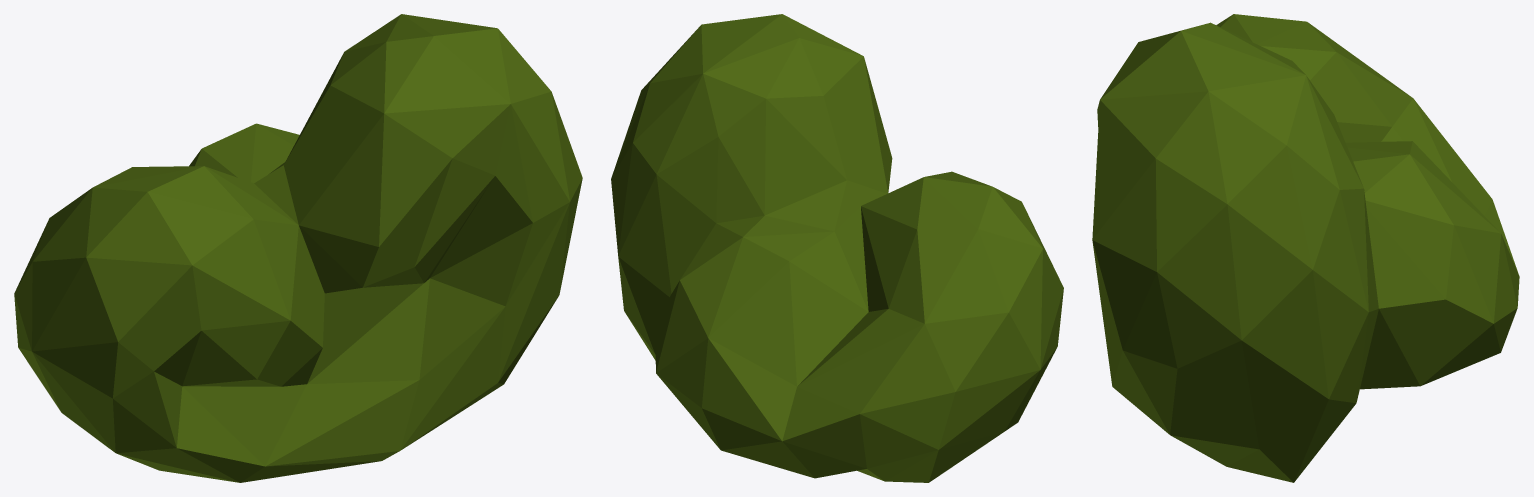
The model's file is TreesAndBushes_008.fbx.
3 renders of one model, left to right at view 1: azimuth 30°, elevation 25°; view 2: azimuth 150°, elevation 25°; view 3: azimuth 270°, elevation 25°, orthographic. The views are drawn at different scales.
Parts seen in each view (by area): view 1: TreesAndBushes_008; view 2: TreesAndBushes_008; view 3: TreesAndBushes_008.
Boxes of the visible parts, x1,y1,x2,y2 form: TreesAndBushes_008: (14,14,582,482); TreesAndBushes_008: (611,14,1063,482); TreesAndBushes_008: (1092,14,1519,482).
Bounding box in the file's own units: 84.73 × 67.72 × 61.89.
